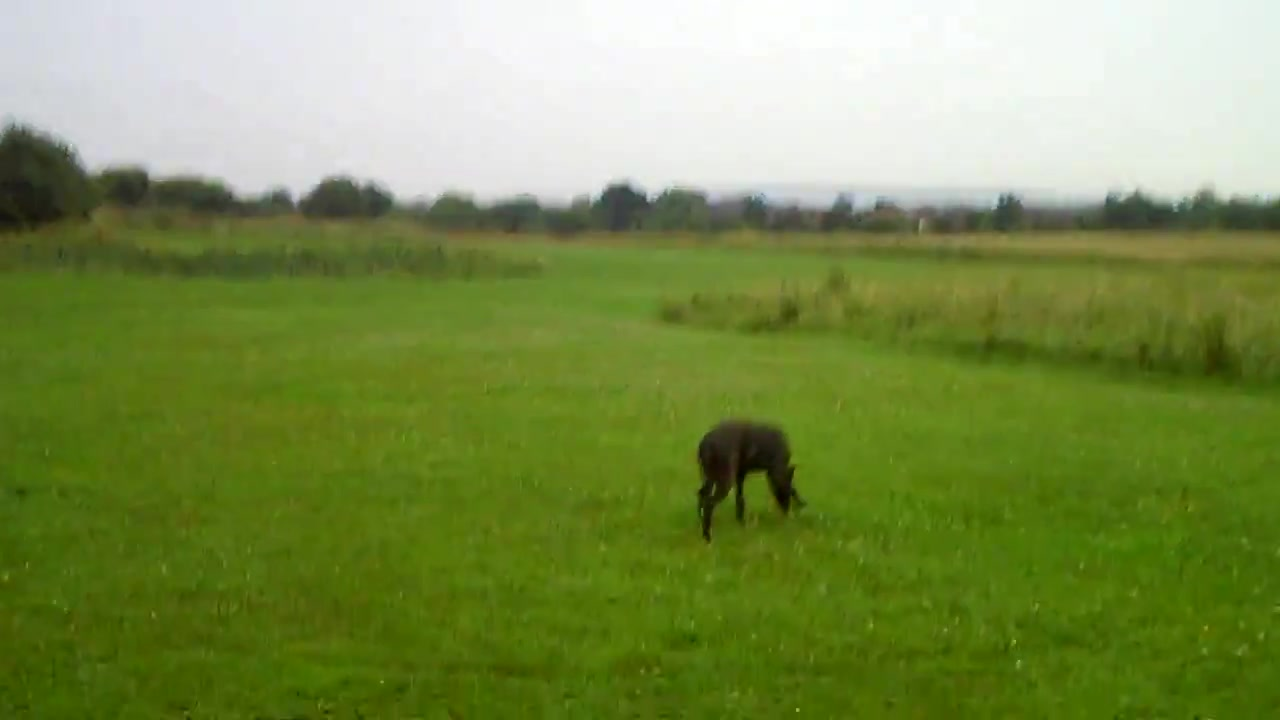dog: (695, 421, 807, 543)
